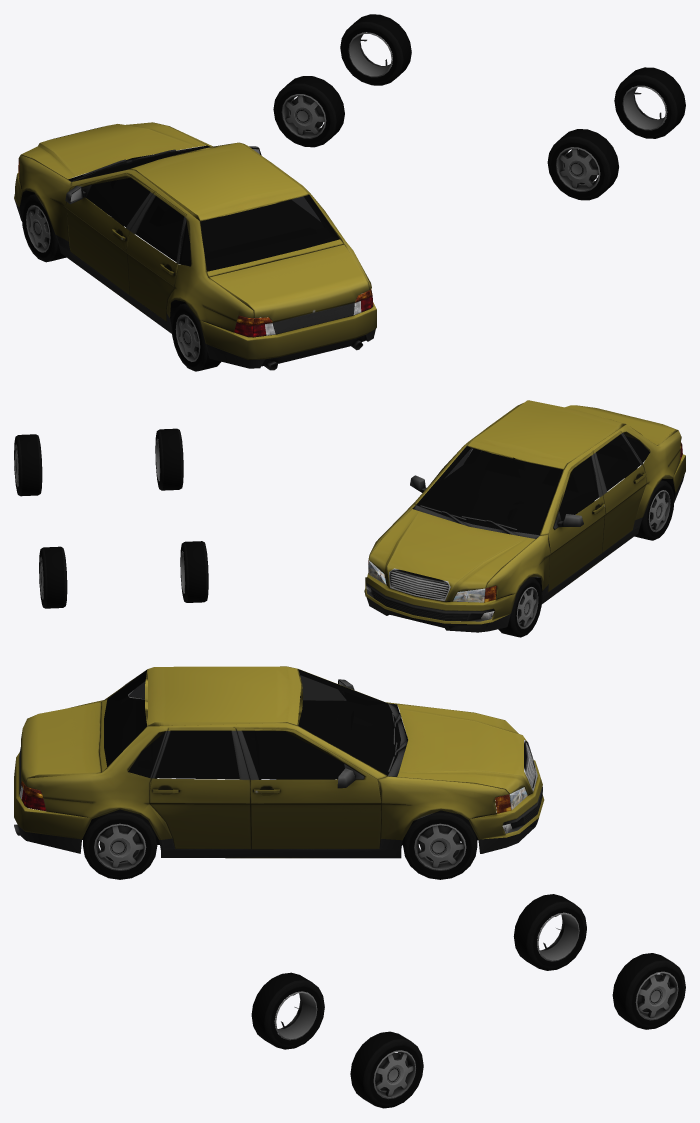
The model's file is generico-sedan.glb.
3 views of the same model, one above another, from view 1: azimuth 30°, elevation 25°; view 2: azimuth 150°, elevation 25°; view 3: azimuth 270°, elevation 25° (orthographic). The views are drawn at different scales.
Visible parts, largest first — view 1: Sedan Body, Wheel_A001 (×2), Wheel_A (×2), Wheel_A003, Wheel_A002; view 2: Sedan Body, Wheel_A (×2), Wheel_A001 (×2), Wheel_A003, Wheel_A002; view 3: Sedan Body, Wheel_A003 (×2), Wheel_A002 (×2), Wheel_A001, Wheel_A.
Boxes of the visible parts, box(x1,y1,x2,y2) form: Sedan Body: box(14, 122, 376, 370); Wheel_A001 (×2): box(171, 129, 618, 371); Wheel_A (×2): box(21, 76, 344, 262); Wheel_A003: box(614, 67, 685, 138); Wheel_A002: box(340, 14, 411, 85); Sedan Body: box(364, 400, 685, 632); Wheel_A (×2): box(180, 541, 542, 637); Wheel_A001 (×2): box(155, 428, 674, 540); Wheel_A003: box(14, 434, 42, 496); Wheel_A002: box(39, 546, 67, 608); Sedan Body: box(14, 666, 544, 858); Wheel_A003 (×2): box(83, 809, 423, 1108); Wheel_A002 (×2): box(403, 810, 685, 1029); Wheel_A001: box(251, 972, 324, 1049); Wheel_A: box(513, 894, 586, 970).
Size of the model in its own units: 6.35 by 1.34 by 5.5.
4 materials, 3 textured.
